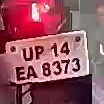1: (48, 41, 59, 59)
3: (52, 60, 63, 78), (72, 57, 81, 74)
4: (60, 40, 71, 57)
7: (61, 58, 72, 76)
8: (42, 61, 52, 79)
A: (26, 63, 39, 80)
E: (13, 64, 27, 82)
P: (33, 43, 46, 63)
U: (20, 45, 34, 61)
